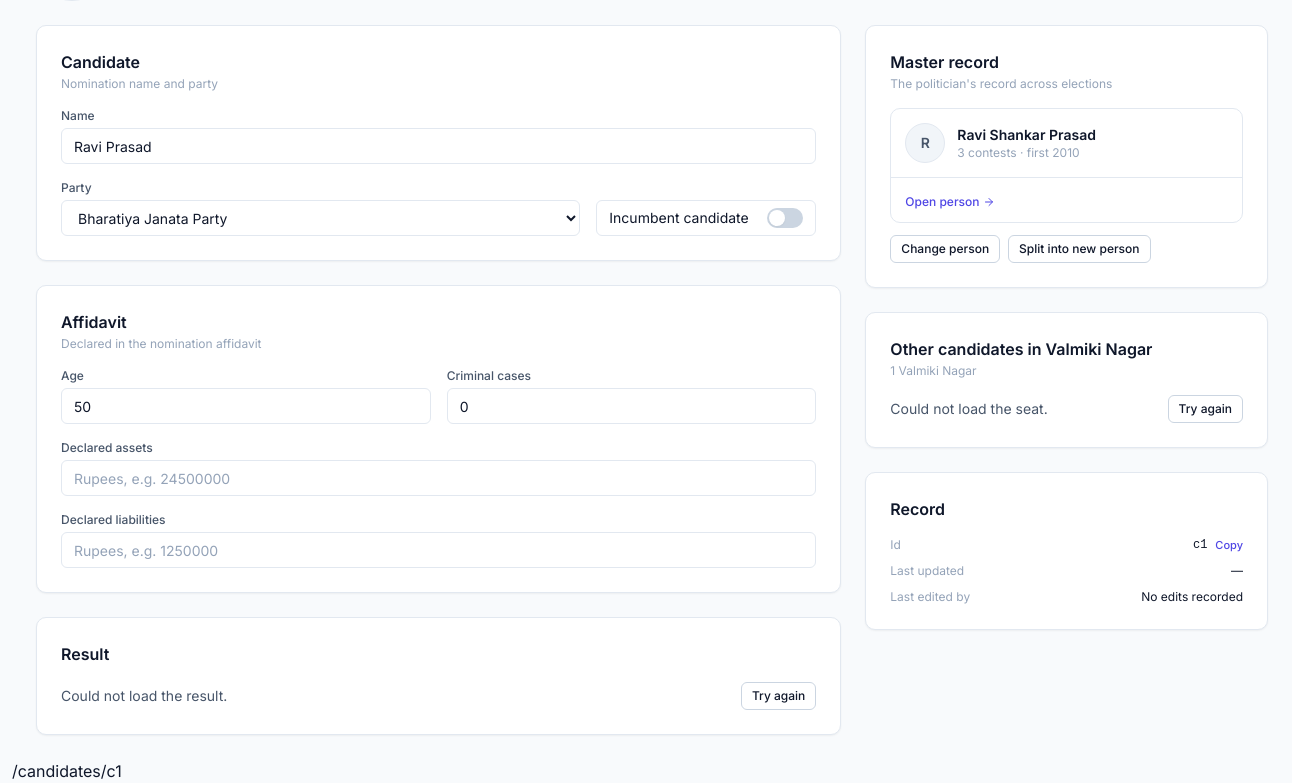
Test: Candidate record page › a failed result load offers Try again
(page scrolled)
Click the button "Try again" in the row of "Could not load the result." at (779, 696), box [741, 682, 816, 710]
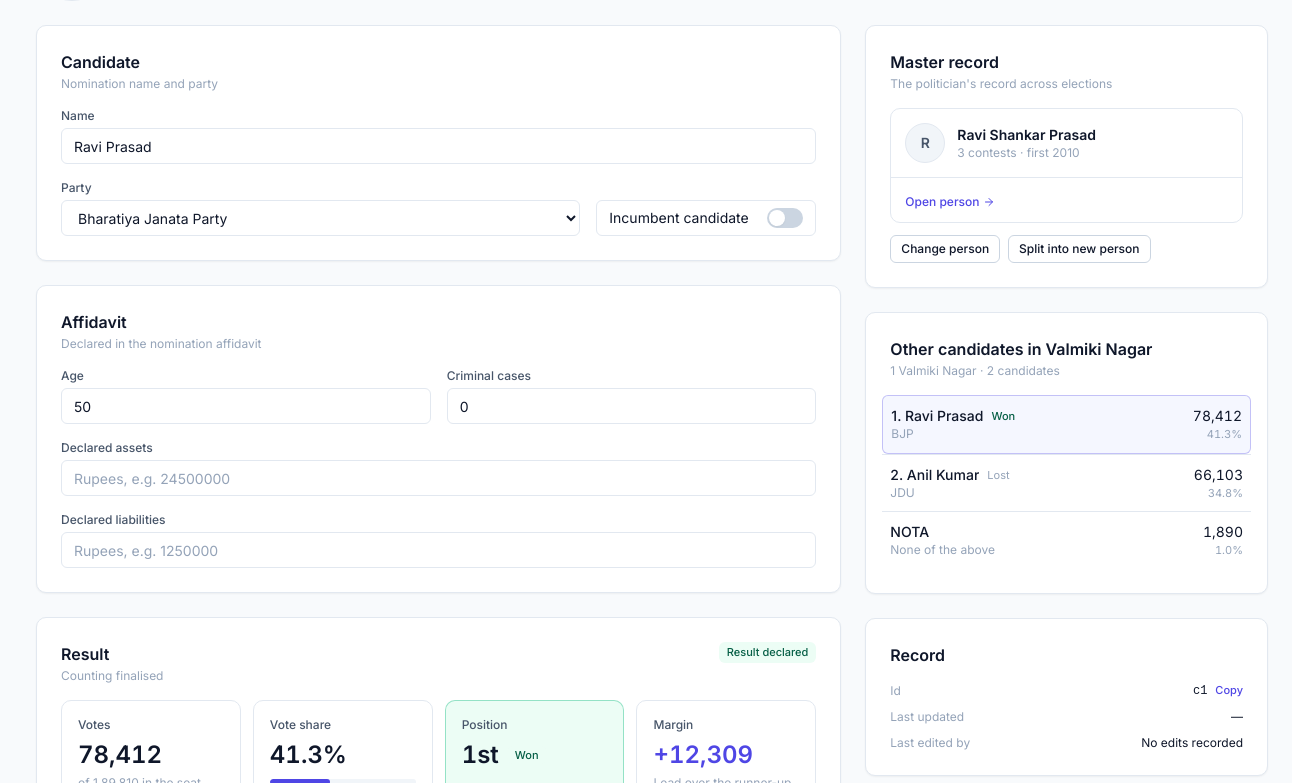
Check: the text "78,412" below "Votes" is shown, box [78, 740, 162, 769]
